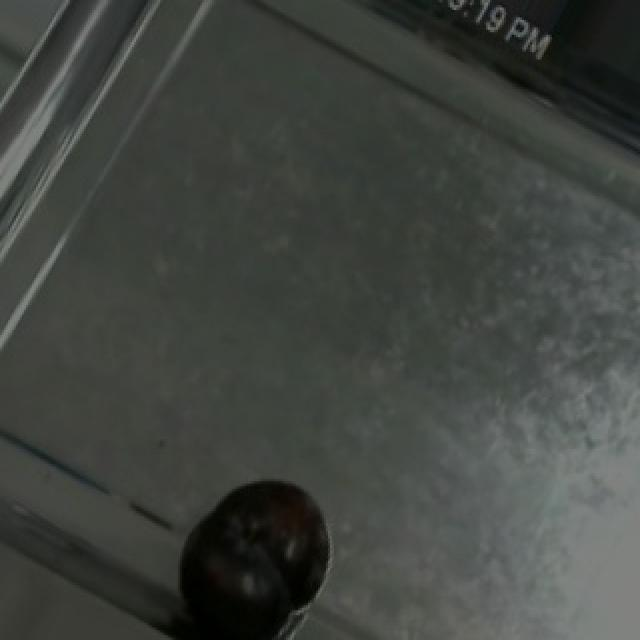Fruit: (166, 459, 342, 640)
